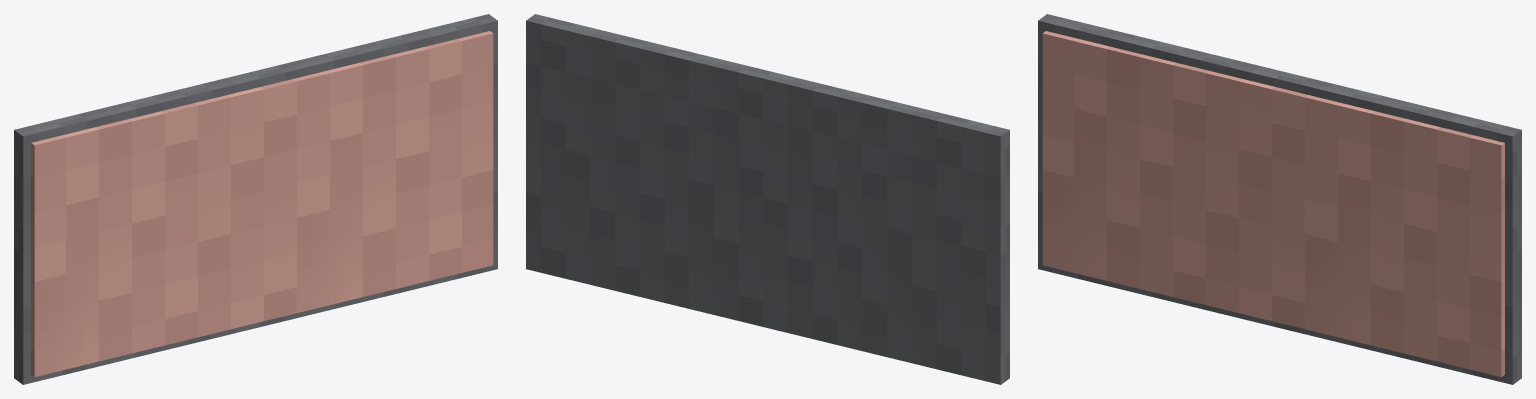
File: pixel-modern-office-acoustic-wall-panel-eb4f7f1f.glb
The picture shows the model from 3 angles, left to right: view 1: azimuth 30°, elevation 25°; view 2: azimuth 150°, elevation 25°; view 3: azimuth 330°, elevation 25°; orthographic projection.
Visible parts, largest first — view 1: acoustic-wall-panel; view 2: acoustic-wall-panel; view 3: acoustic-wall-panel.
Boxes of the visible parts, <box> form: acoustic-wall-panel: <box>14,14,497,384</box>; acoustic-wall-panel: <box>526,14,1009,384</box>; acoustic-wall-panel: <box>1038,14,1521,384</box>.
Bounding box in the file's own units: 1.2 × 0.6001 × 0.055.
Materials: 2 (2 with a texture image).
